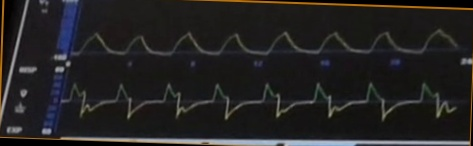Premature_cycling Flow: (67, 69, 457, 130)
Premature_cycling Volume: (76, 13, 456, 61)
